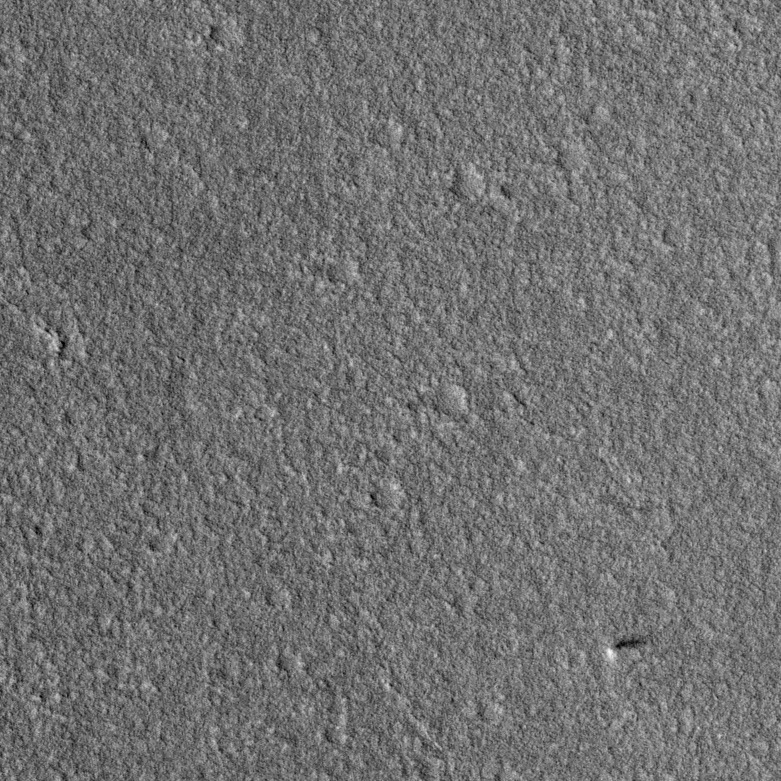dust_devil: (606, 636, 648, 661)
